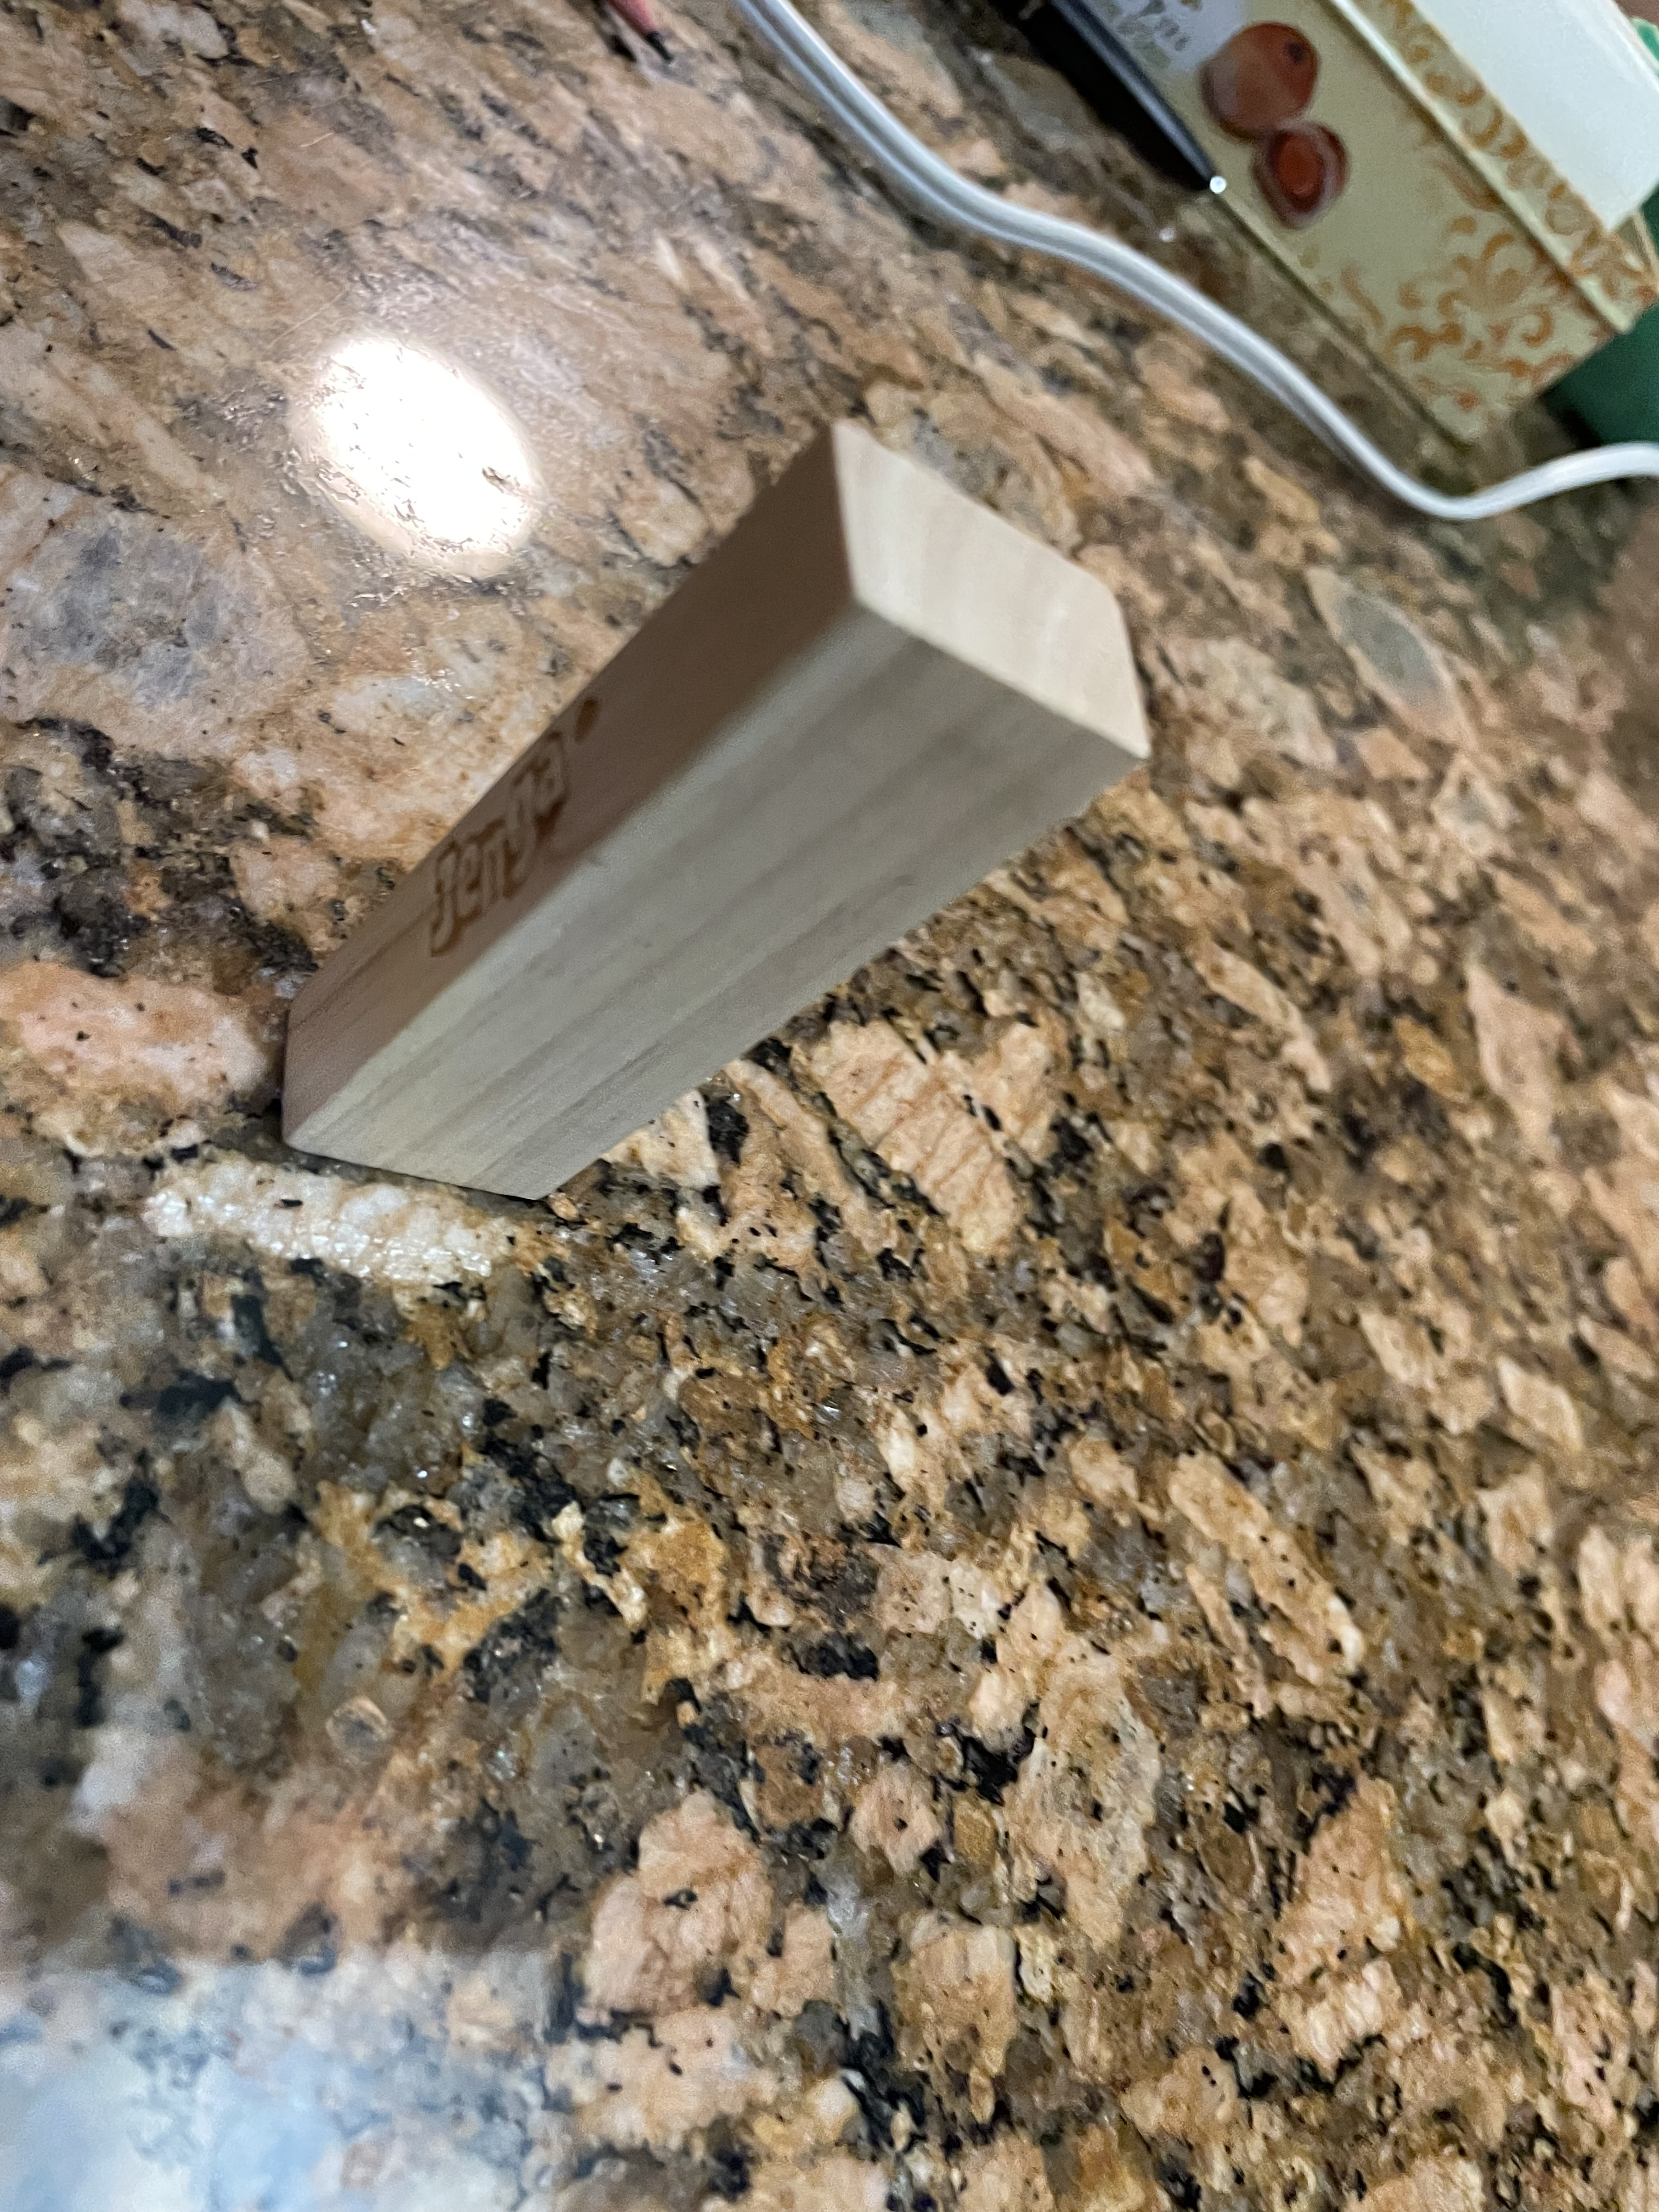jenga: (258, 397, 1141, 1226)
